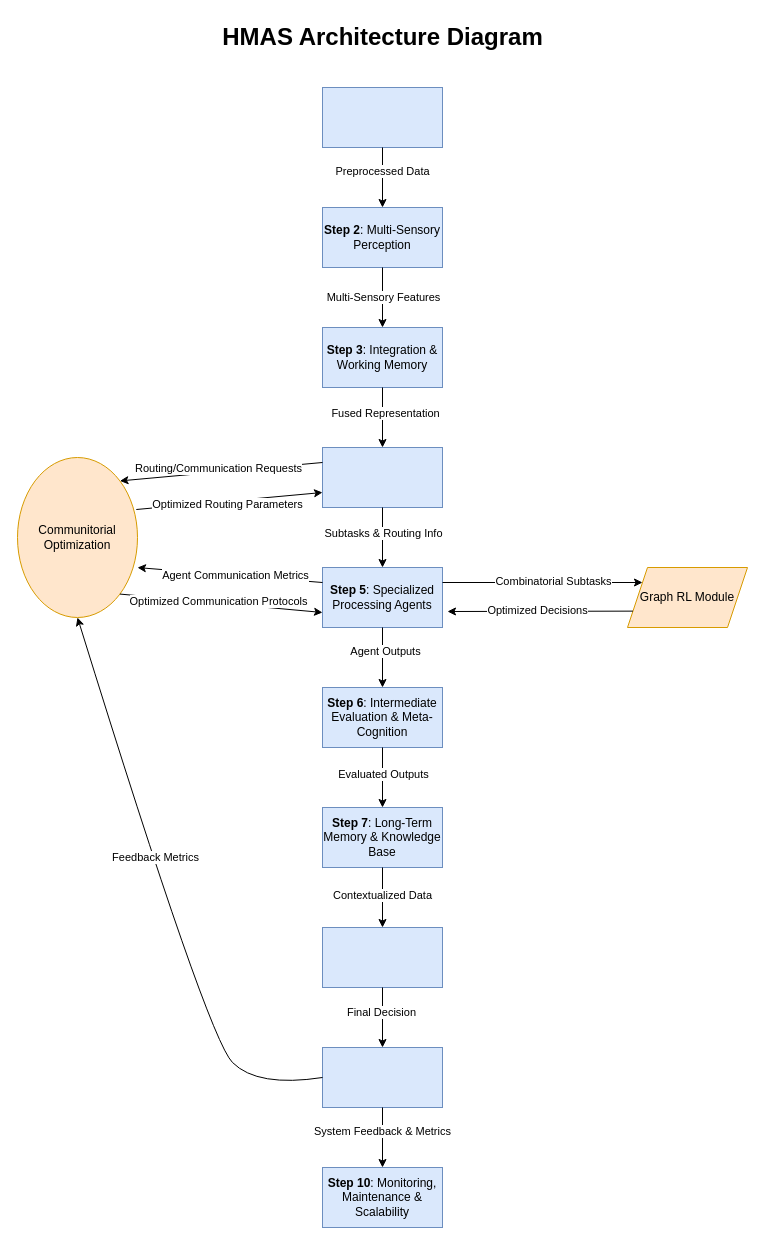
Image size: 765x1245. Some labels were removed from this diagram. The box of each missing label's shape, as (x1, y1, x2, y2) in pixels:
Step 1 : Data Ingestion & Preprocessing: (322, 86, 442, 148)
Step 4 : Task Decomposition & Routing: (322, 446, 442, 508)
Step 8 : Decision Aggregation & Output Generation: (322, 926, 442, 988)
Step 9 : Feedback Loop & Continuous Learning: (322, 1046, 442, 1108)
